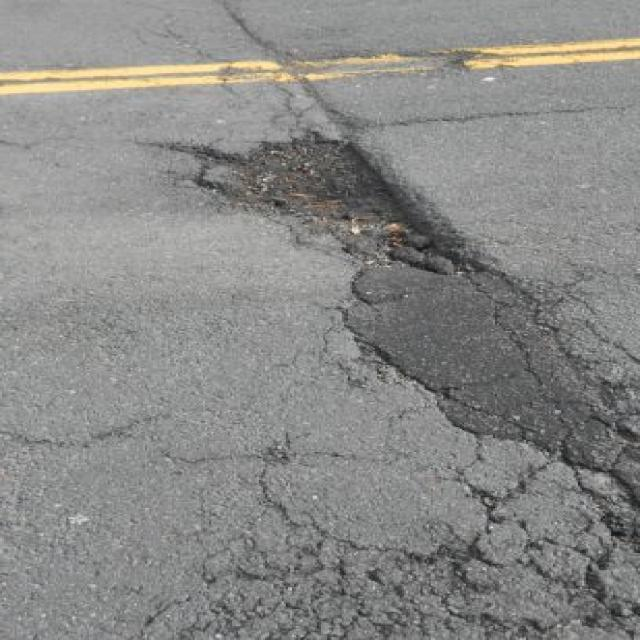pothole: (154, 129, 506, 278)
